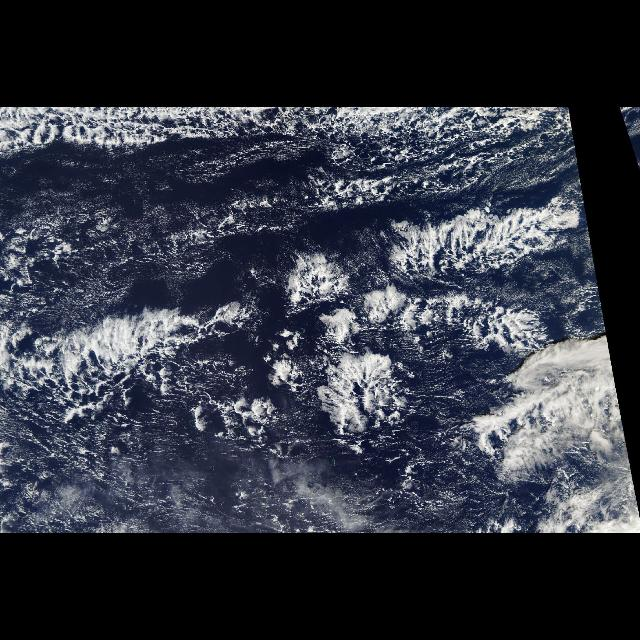Fish: (2, 168, 600, 448), (1, 108, 562, 158)
Gravel: (288, 122, 558, 210)
Sugar: (12, 412, 512, 530), (7, 143, 323, 273)
